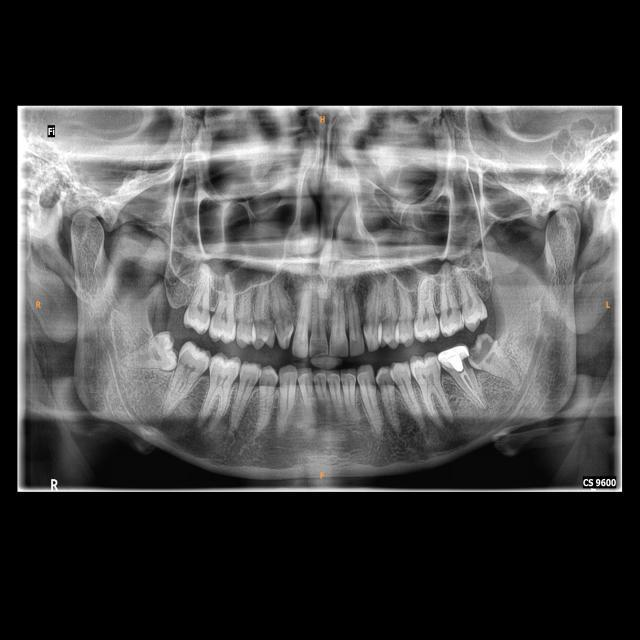dentin-curugu: (472, 338, 498, 362)
kanal-tedavisi: (461, 372, 484, 407)
kaplama: (440, 348, 469, 369)
